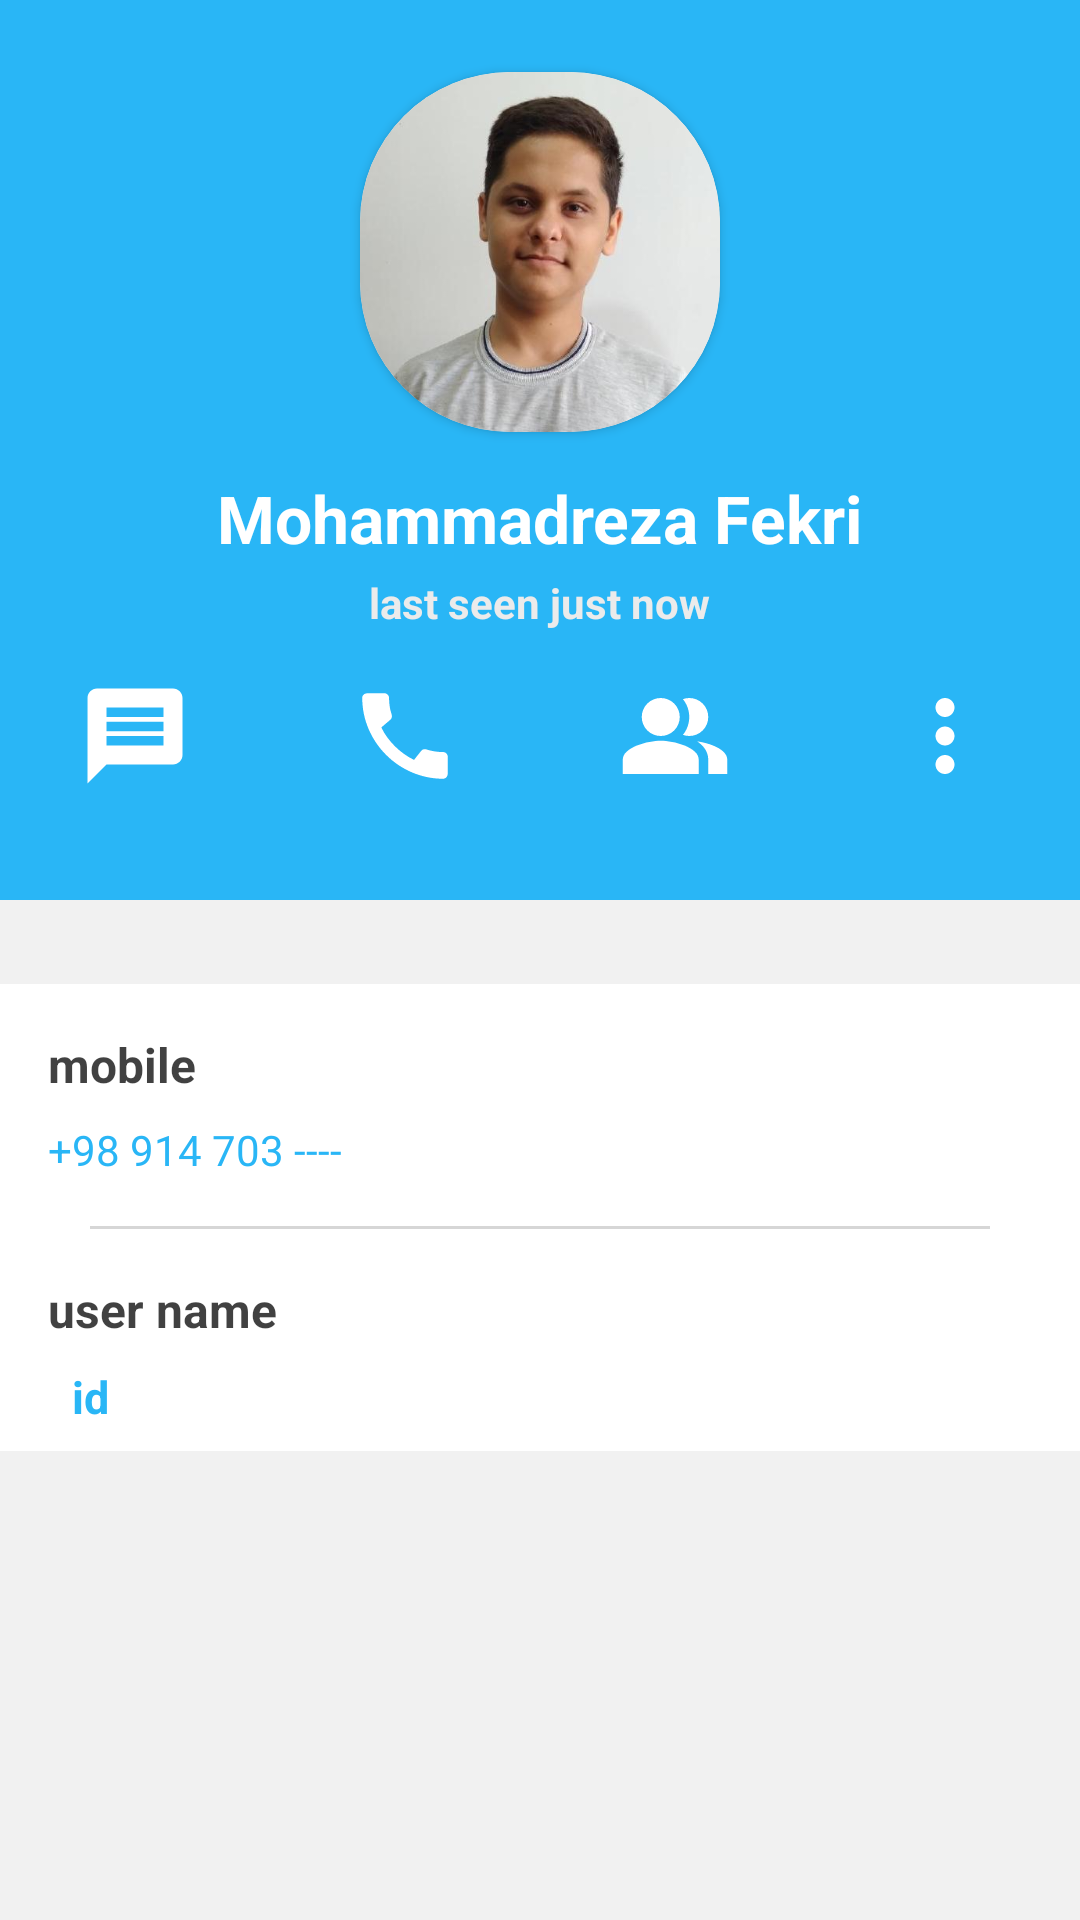

Screen size 1080px x 1920px. Icon name, then its box in pixels as [x1=x1, y1=y1, x2=x2, y2=y2]:
call: [x1=362, y1=693, x2=448, y2=779]
message: [x1=87, y1=688, x2=183, y2=784]
more: [x1=935, y1=698, x2=955, y2=774]
people: [x1=622, y1=698, x2=728, y2=774]
